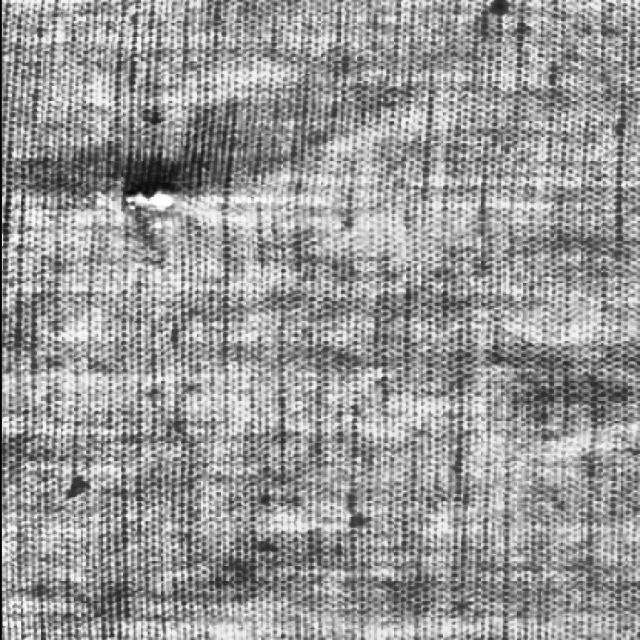hole: (117, 180, 180, 224)
